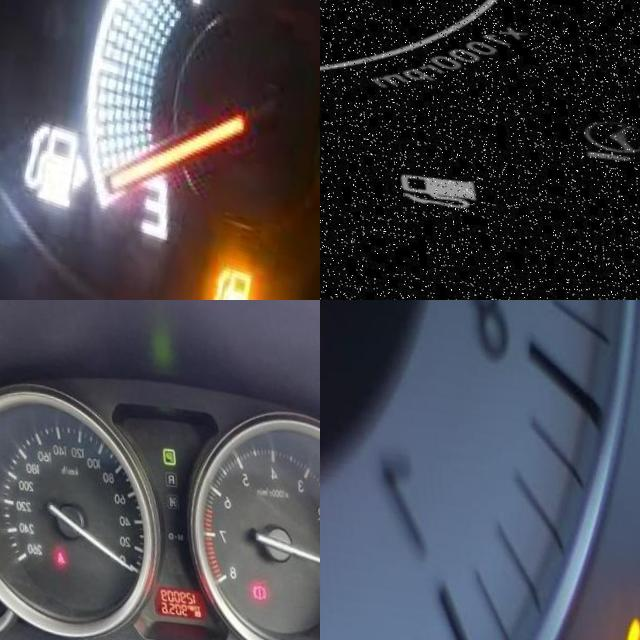Electronic Power Steering: (563, 95, 640, 177)
Seat Belt: (50, 545, 62, 561)
